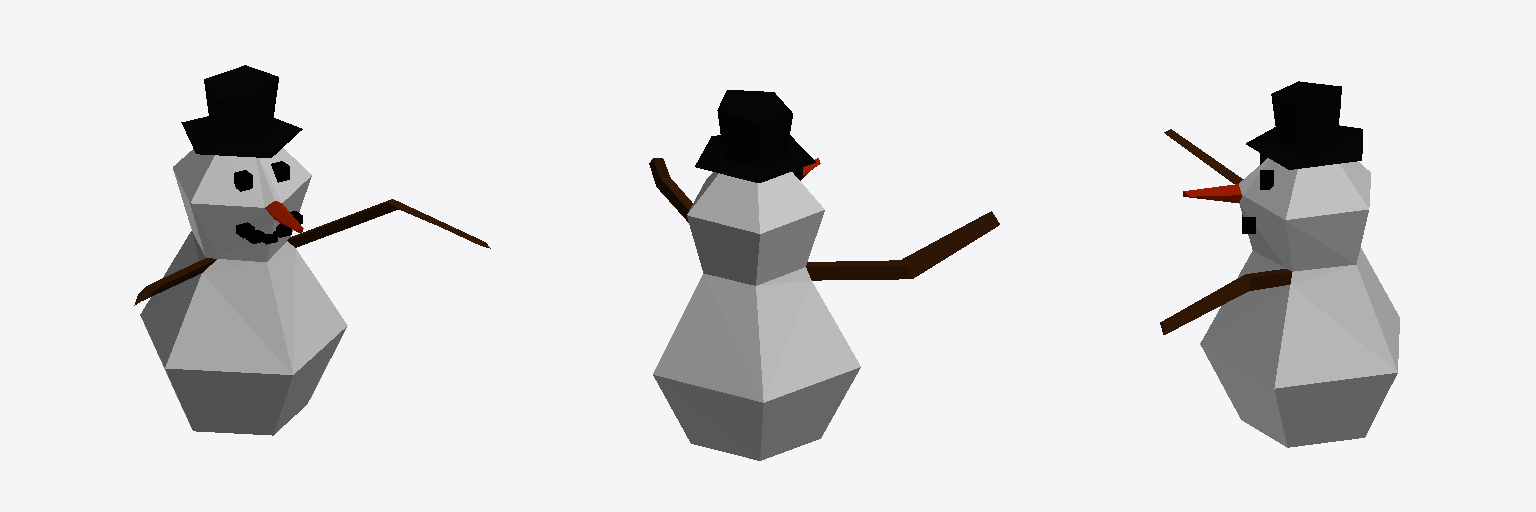
Rendered from snowman.obj.
3 views of the same model, side by side, from view 1: azimuth 30°, elevation 25°; view 2: azimuth 150°, elevation 25°; view 3: azimuth 270°, elevation 25° (orthographic).
Visible parts, largest first — view 1: Cylinder; view 2: Cylinder; view 3: Cylinder.
Part boxes in pixels (bbox=[...]): Cylinder: bbox=[134, 65, 490, 435]; Cylinder: bbox=[649, 90, 999, 460]; Cylinder: bbox=[1160, 81, 1399, 447].
Size of the model in its own units: 3.72 by 3.31 by 2.18.